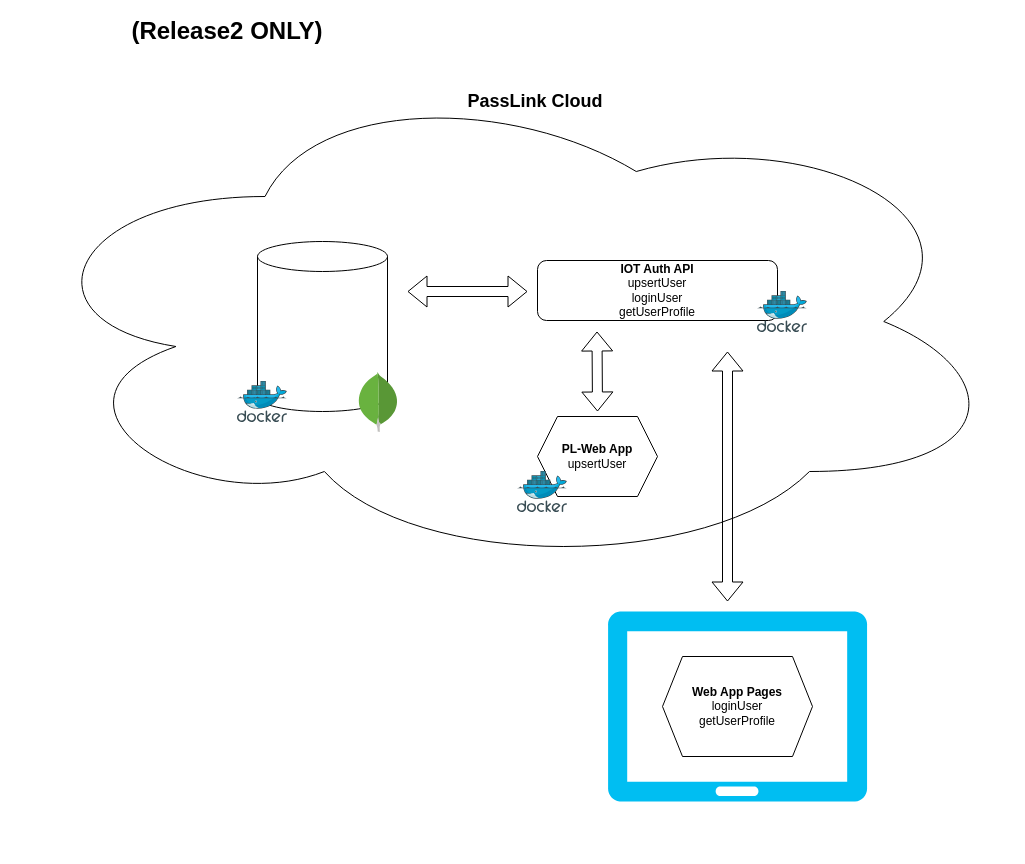
The diagram is 1025 pixels wide and 864 high, and some of its shapes have lost their labels. The box of each missing label's shape, as (x1, y1, x2, y2) in pixels:
PassLink Mobile App (iOS & Android): (607, 611, 867, 801)
passlink-db pl-users pl-user-profile pl-config-data pl-log-data: (256, 240, 388, 412)
